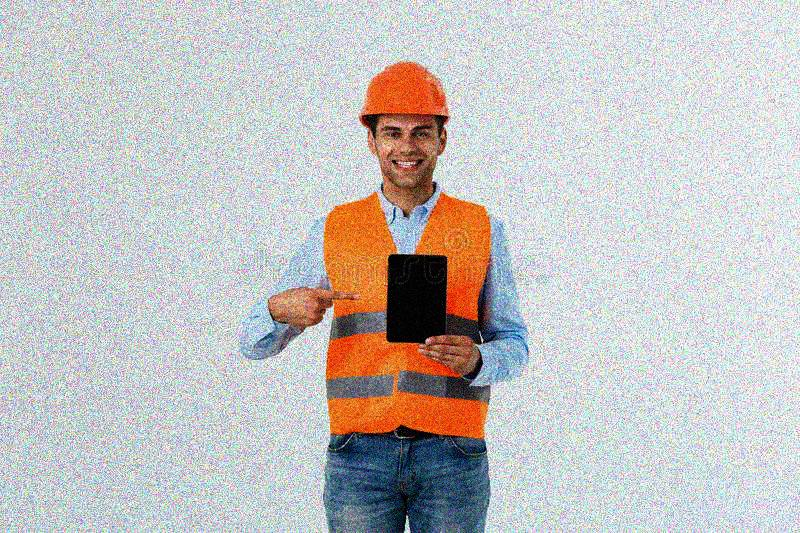helmet: (355, 58, 453, 191)
